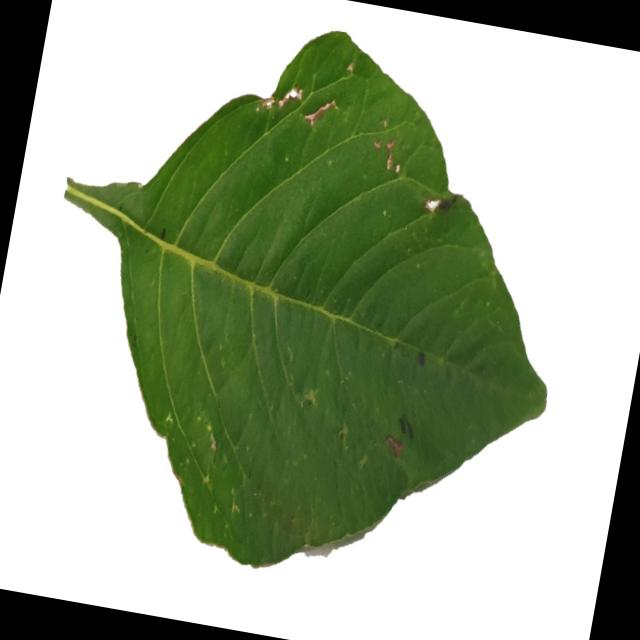Medicinal-Arive Dantu: (4, 0, 605, 624)
